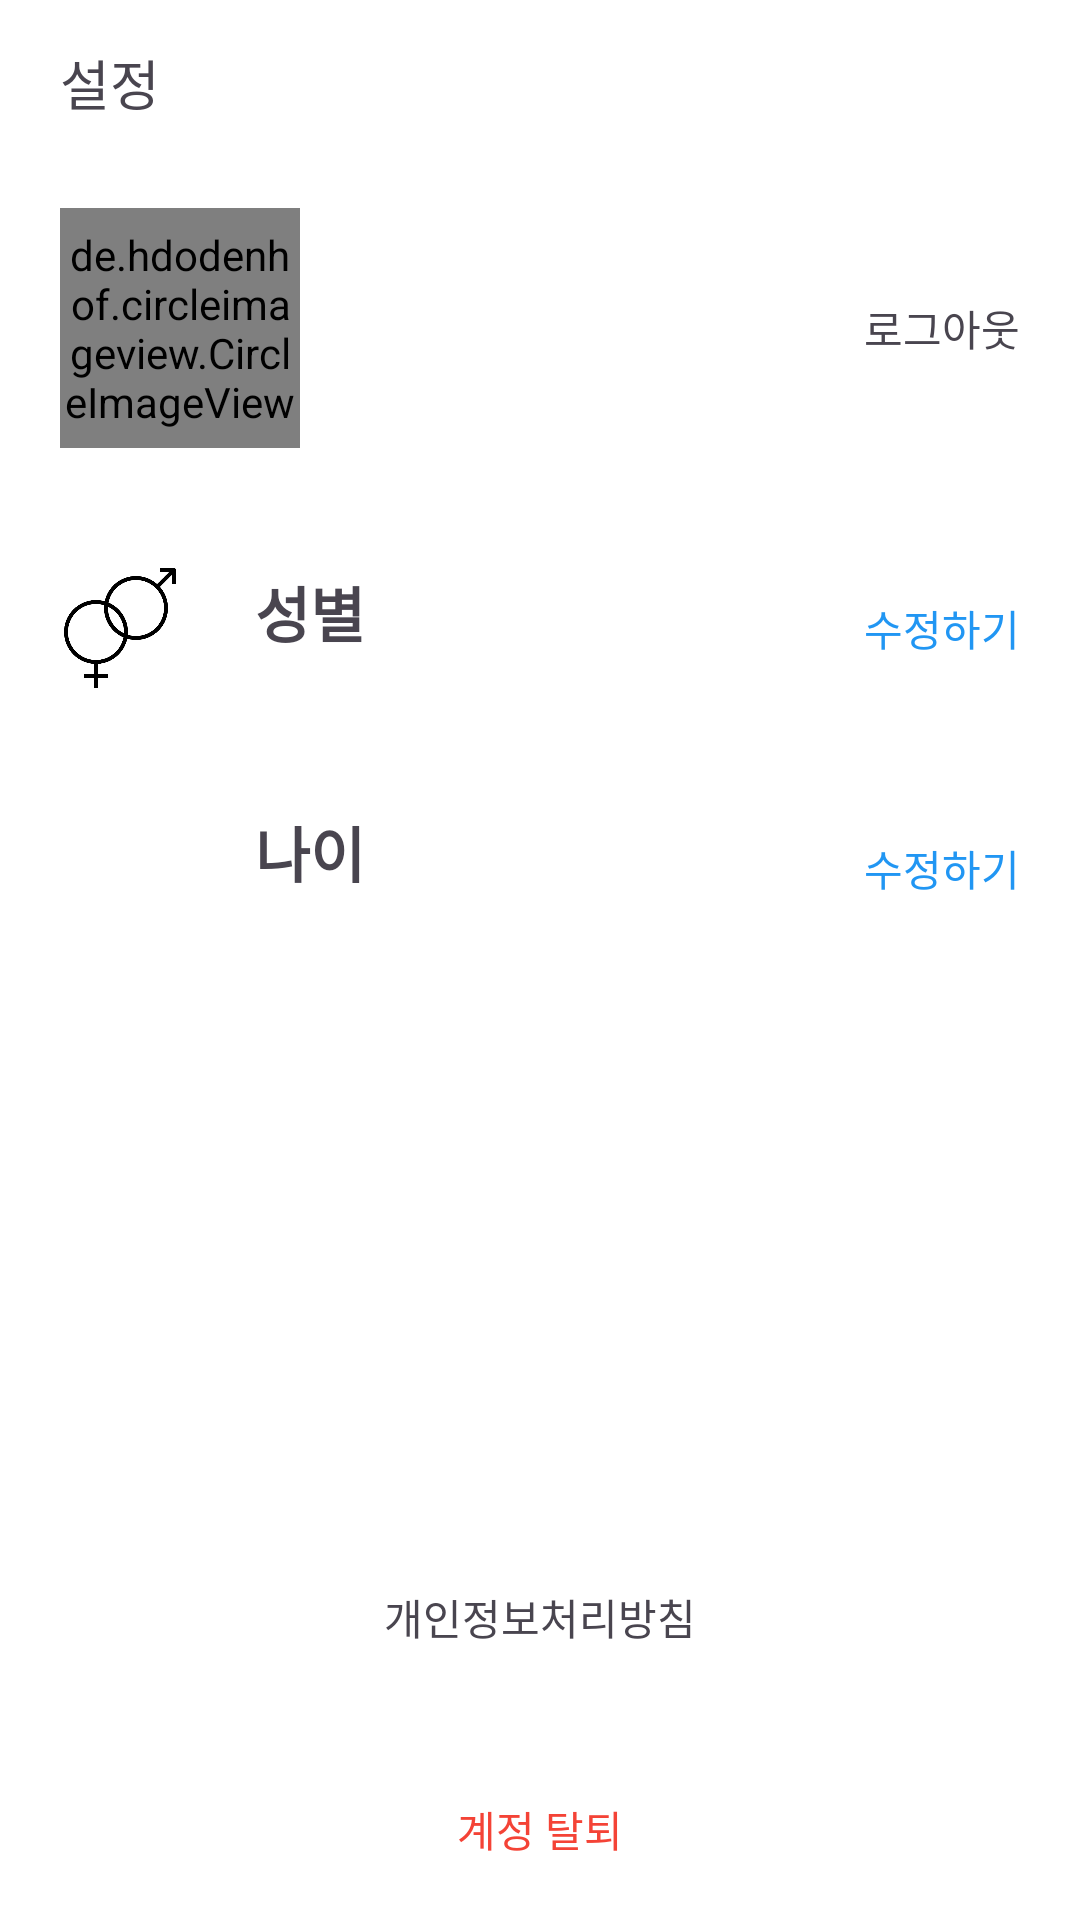

Icons on this 1080px x 1920px Android screen, each with its box as region(x1, y1, x2, y2):
sex: region(64, 568, 176, 688)
